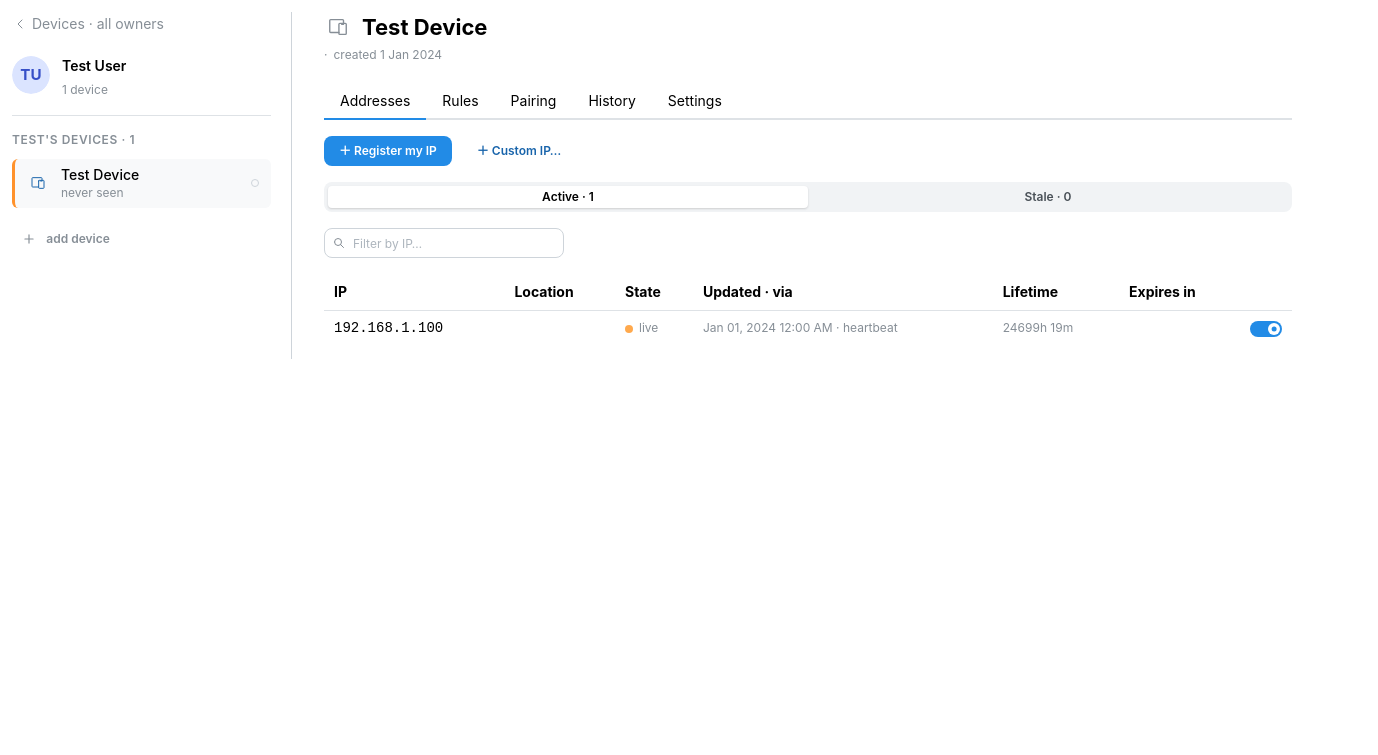
Scenario: UserDevicesPage › switches to Settings tab and shows device profile card
This screenshot has width=1378, height=755.
Expected: the heading "Test Device" is shown, top-left (362, 12), bottom-right (488, 43)
What coordinates should you click on to do the following:
click the tab "Settings"
I would click on:
 (695, 102)
Its box is top-left (652, 84), bottom-right (738, 120).
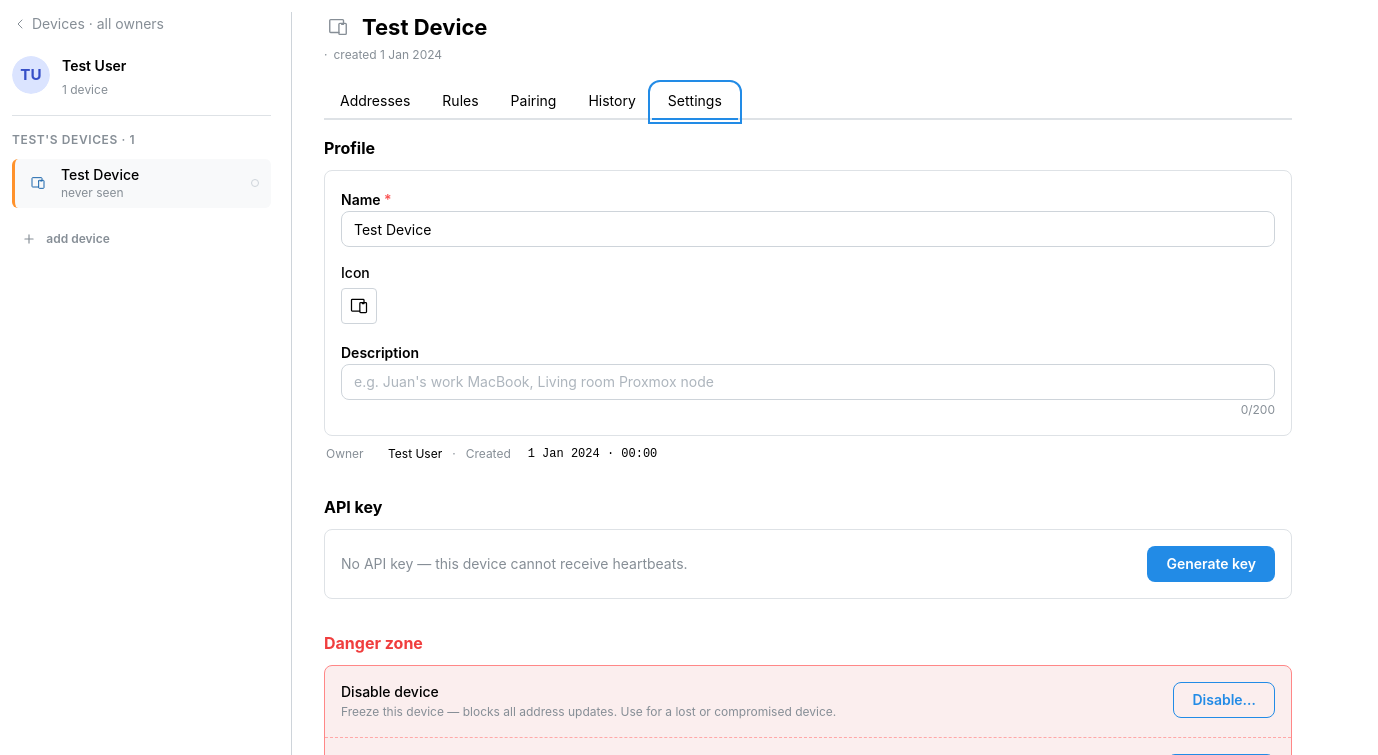
Now the heading "Profile" is shown, box top-left (324, 138), bottom-right (375, 158)
